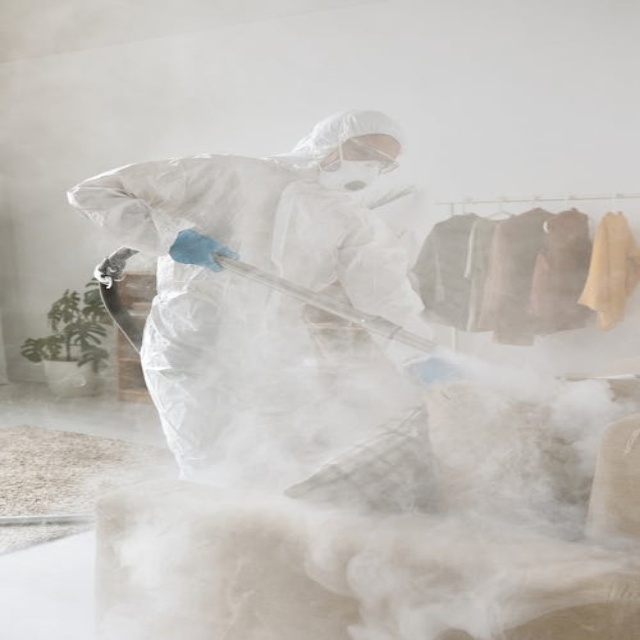Gafas: (320, 134, 401, 173)
Guantes: (165, 223, 250, 279)
Mascara: (305, 159, 387, 197)
